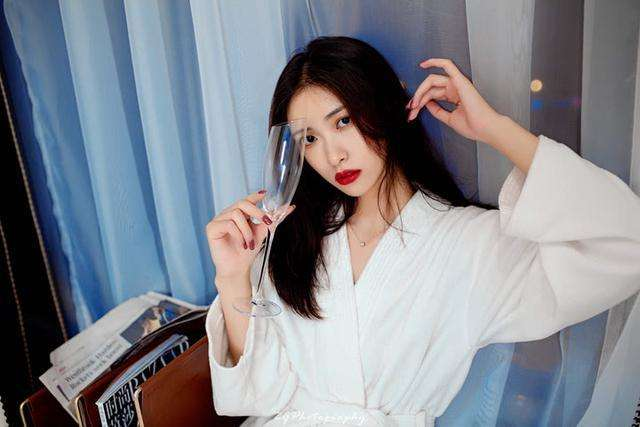person: (193, 43, 539, 354)
